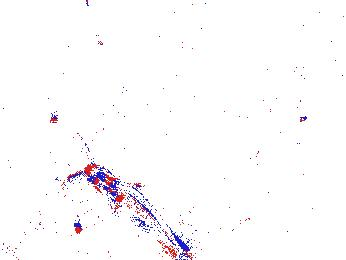glassfish: (82, 163, 200, 260)
